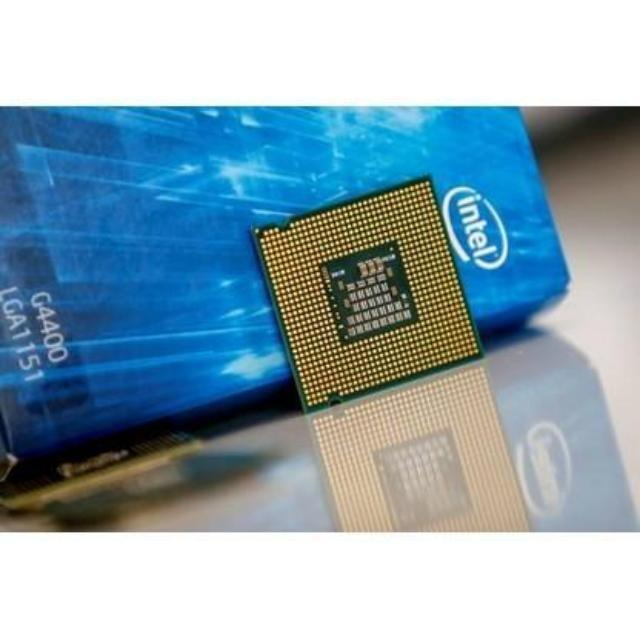CPU: (251, 170, 483, 416)
